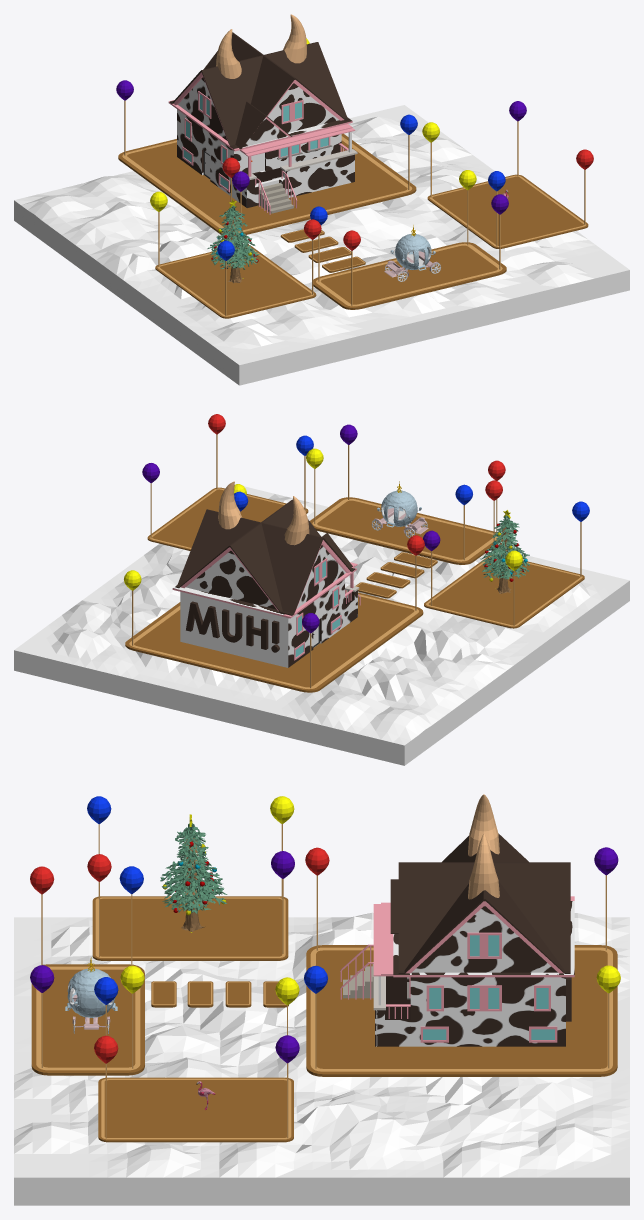
The picture shows the model from 3 angles, top to bottom: view 1: azimuth 30°, elevation 25°; view 2: azimuth 150°, elevation 25°; view 3: azimuth 270°, elevation 25°; orthographic projection. The views are drawn at different scales.
Visible parts, largest first — view 1: Cube.013, Cube.1242, OBJRANDOM_CHRISTMAS_TREE, VEHICLES_FANTASY_CARRIAGE; view 2: Cube.013, Cube.1242, OBJRANDOM_CHRISTMAS_TREE, VEHICLES_FANTASY_CARRIAGE; view 3: Cube.013, Cube.1242, OBJRANDOM_CHRISTMAS_TREE, VEHICLES_FANTASY_CARRIAGE.
Part boxes in pixels (x1,y1,x2,y2): Cube.013: [14, 38, 629, 385]; Cube.1242: [168, 14, 357, 214]; OBJRANDOM_CHRISTMAS_TREE: [207, 200, 259, 283]; VEHICLES_FANTASY_CARRIAGE: [384, 225, 440, 281]; Cube.013: [14, 414, 629, 765]; Cube.1242: [172, 481, 360, 667]; OBJRANDOM_CHRISTMAS_TREE: [480, 510, 529, 593]; VEHICLES_FANTASY_CARRIAGE: [371, 481, 428, 538]; Cube.013: [14, 796, 629, 1205]; Cube.1242: [340, 794, 574, 1046]; OBJRANDOM_CHRISTMAS_TREE: [160, 814, 227, 932]; VEHICLES_FANTASY_CARRIAGE: [65, 957, 117, 1033].
Size of the model in its own units: 4000 by 1897 by 4000.
Materials: 35 (2 with a texture image).
